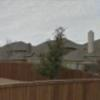chimneys: (88, 30, 94, 53)
